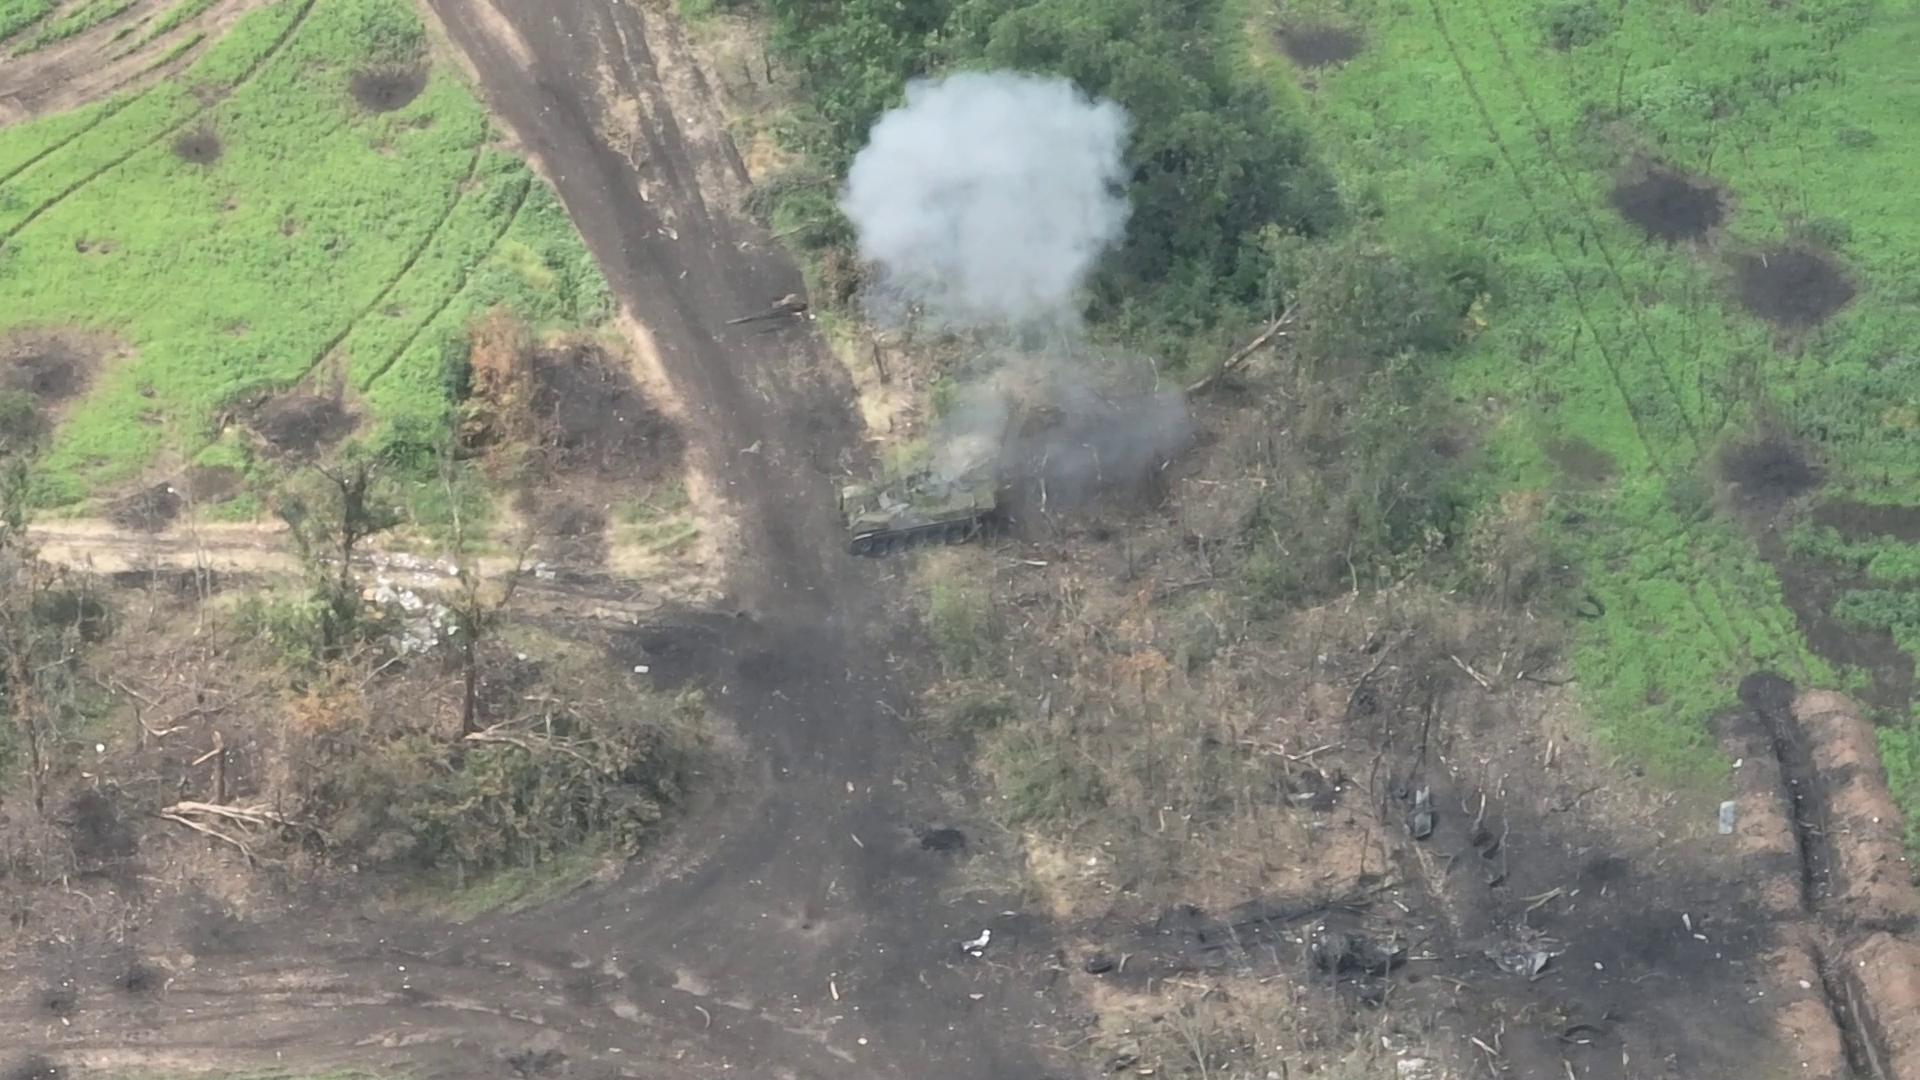tank: (836, 451, 1014, 562)
